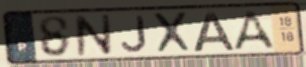8: (36, 15, 73, 59)
A: (231, 9, 277, 52), (191, 10, 237, 53)
J: (120, 14, 149, 54)
N: (73, 13, 115, 58)
X: (150, 11, 196, 55)
